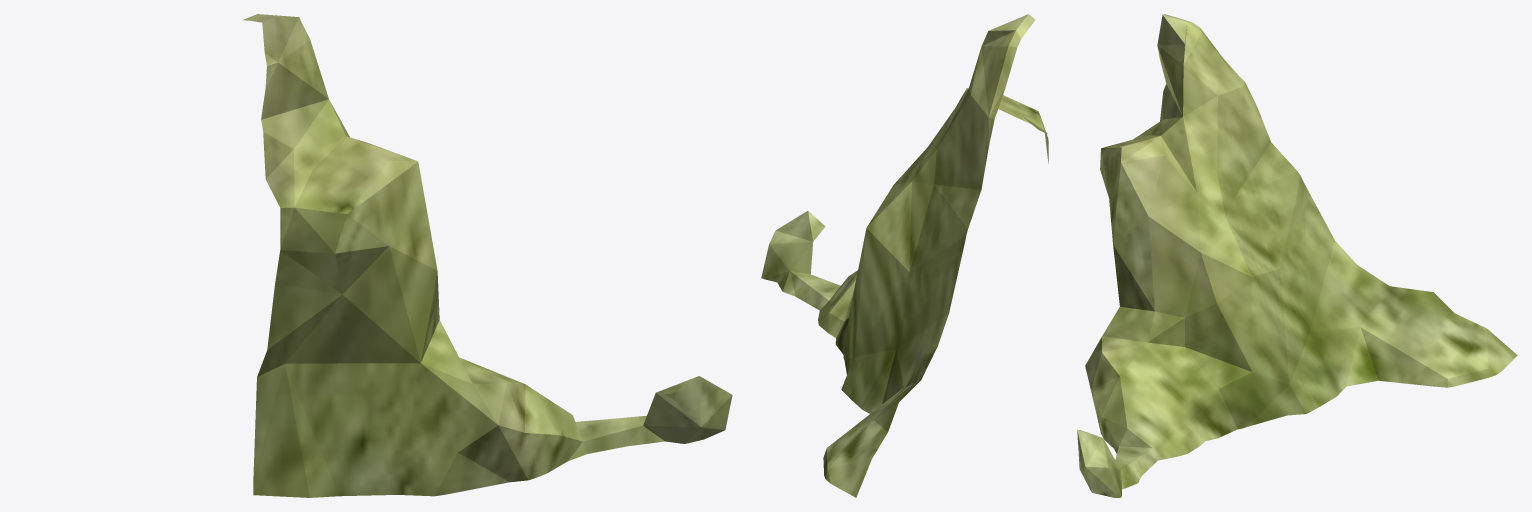
3 renders of one model, left to right at view 1: azimuth 30°, elevation 25°; view 2: azimuth 150°, elevation 25°; view 3: azimuth 270°, elevation 25°, orthographic. The views are drawn at different scales.
Bounding box in the file's own units: 0.8034 × 0.8944 × 1.04.
Materials: 1 (1 with a texture image).
